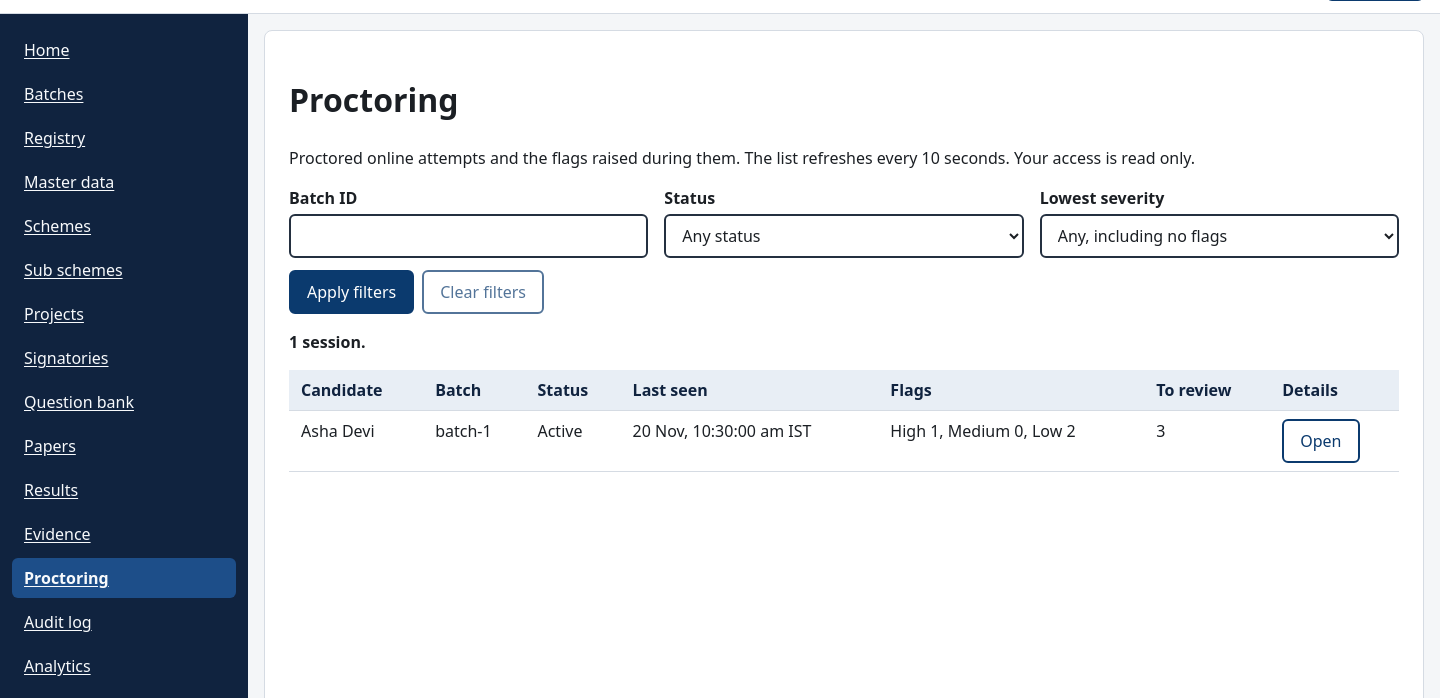
Test: shows the flag timeline with time, type and severity in words
Click the button with aria-label "Open session of Asha Devi" at (1321, 441), box [1282, 419, 1360, 463]
(page scrolled)
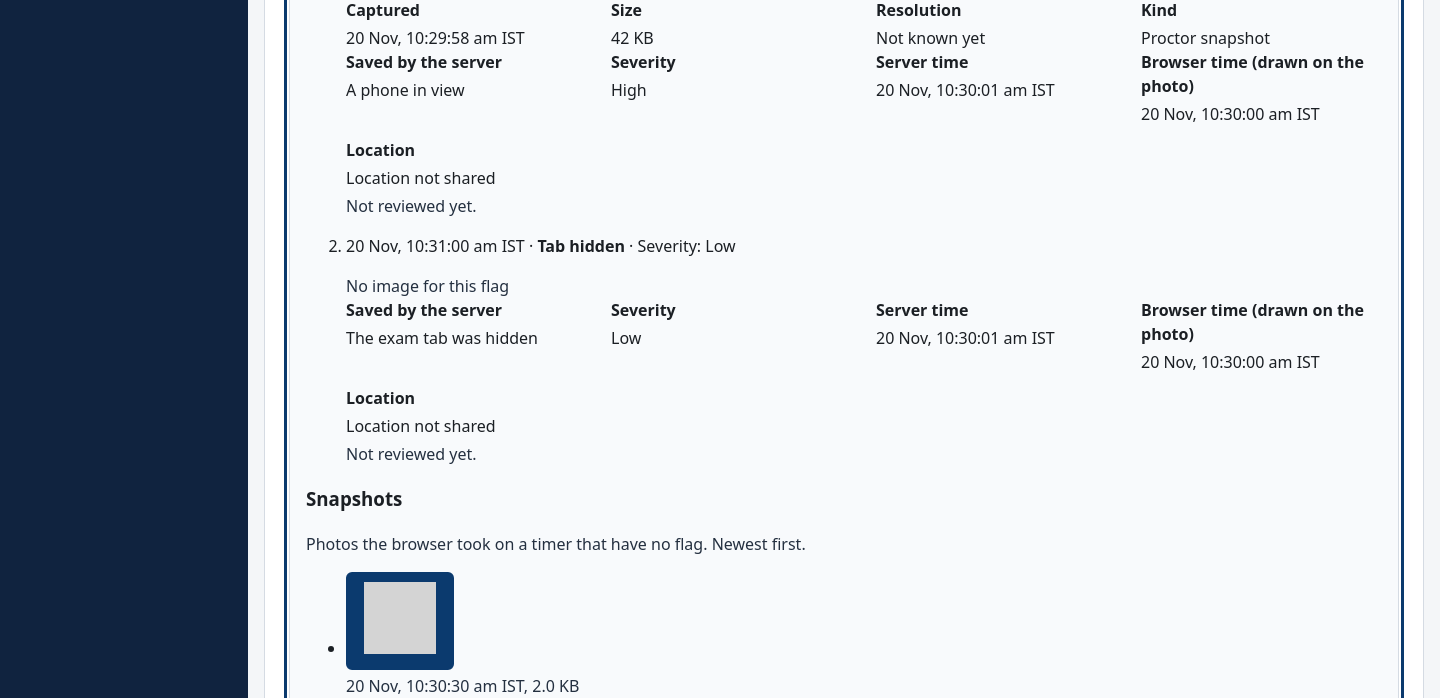
Check: the list item that starts with "20 Nov, 10:31:00 am IST" shows "Tab hidden", box [537, 235, 625, 257]
Check: the list item that starts with "20 Nov, 10:31:00 am IST" shows "Severity: Low", box [346, 234, 1382, 466]
Check: the list item that starts with "20 Nov, 10:31:00 am IST" shows "No image for this flag", box [346, 275, 509, 297]
